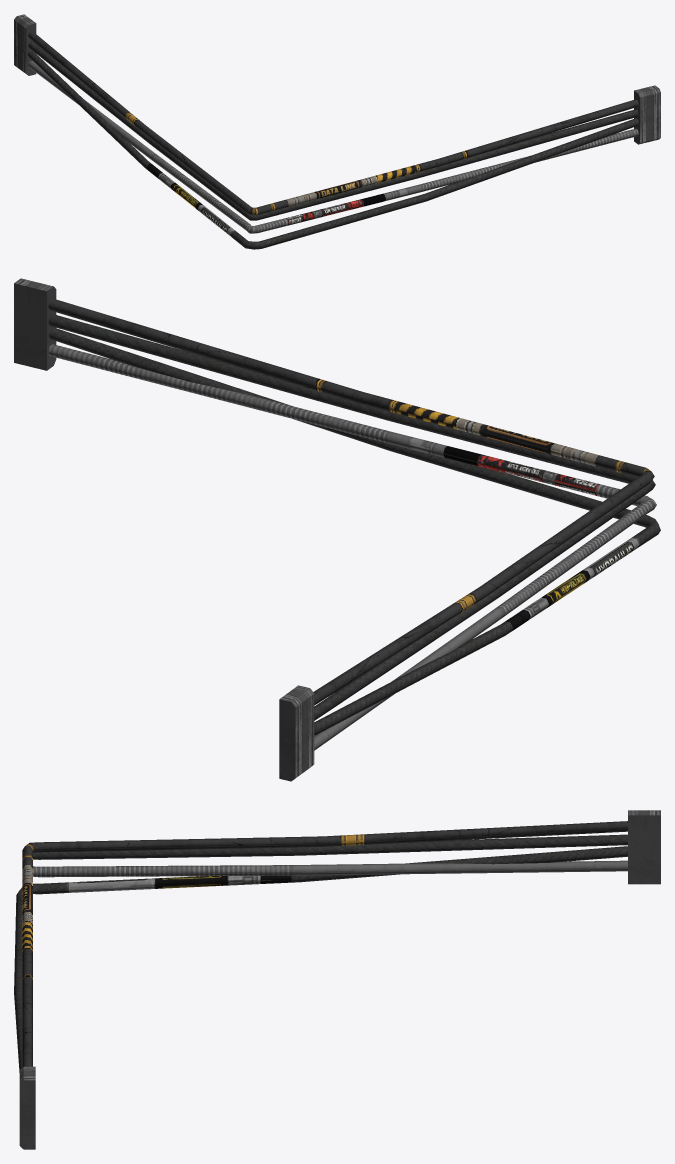
The model's file is CP_Wires_A_Angle_01.fbx.
The picture shows the model from 3 angles, top to bottom: view 1: azimuth 30°, elevation 25°; view 2: azimuth 150°, elevation 25°; view 3: azimuth 270°, elevation 25°; orthographic projection. The views are drawn at different scales.
Parts seen in each view (by area): view 1: CP_Wires_A_Angle_01_LOD0; view 2: CP_Wires_A_Angle_01_LOD0; view 3: CP_Wires_A_Angle_01_LOD0.
Boxes of the visible parts, x1,y1,x2,y2 form: CP_Wires_A_Angle_01_LOD0: [14, 14, 660, 249]; CP_Wires_A_Angle_01_LOD0: [14, 278, 660, 781]; CP_Wires_A_Angle_01_LOD0: [14, 810, 660, 1149].
Size of what is drawn, in the model's own units: 208 by 29.57 by 207.
